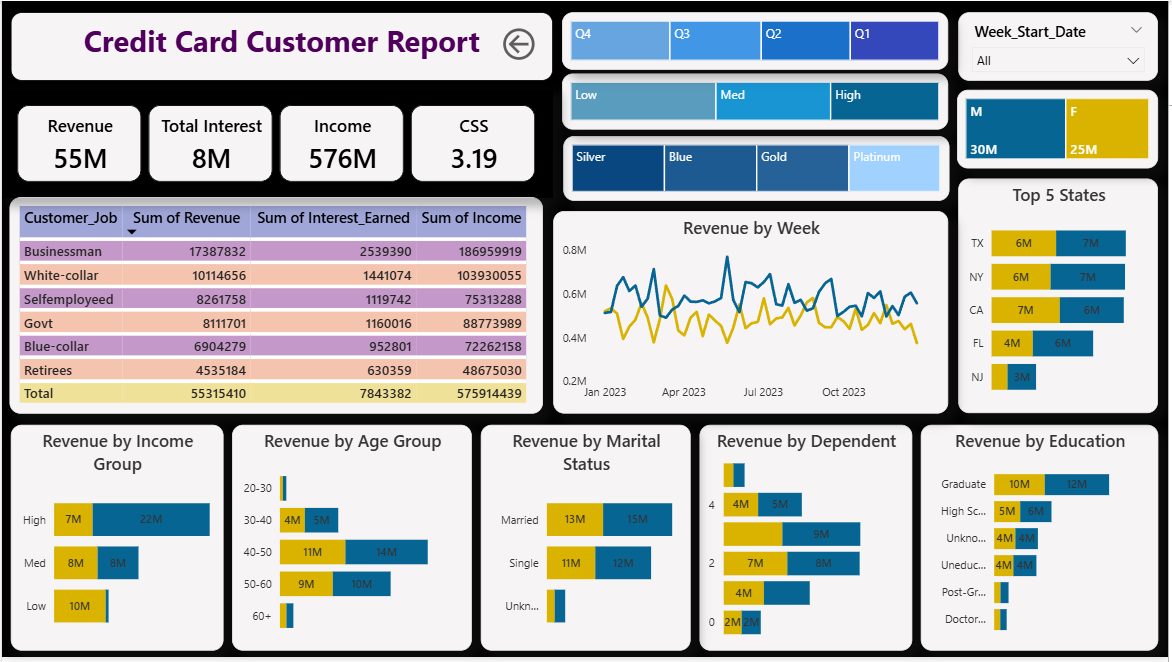

The page's visual inventory and layout, read from the dashboard file:
{"tool":"powerbi","page":{"name":"CC-Customer Reports","canvas":[1280,720],"ordinal":1},"visuals":[{"type":"textbox","box":[9.6,12.3,595.5,75.5],"z":0},{"type":"tableEx","fields":{"Values":["public cust_detail.Customer_Job","public cc_detail.Revenue","Sum(public cc_detail.Interest_Earned)","Sum(public cust_detail.Income)"]},"box":[8.2,215.4,585.9,237.4],"z":1000},{"type":"treemap","fields":{"Values":["Avg(public cc_detail.Client_Num)"],"Group":["public cc_detail.Card_Category"]},"box":[616.1,148.2,424,71.4],"z":3000},{"type":"treemap","fields":{"Values":["CountNonNull(public cc_detail.Client_Num)"],"Group":["public cust_detail.IncomeGroup"]},"box":[614.8,79.6,424,61.7],"z":4000},{"type":"slicer","fields":{"Values":["public cc_detail.Week_Start_Date"]},"box":[1049.7,12.3,219.6,75.5],"z":6000},{"type":"barChart","title":"Revenue by Income Group","fields":{"Y":["Sum(public cc_detail.Revenue)"],"Category":["public cust_detail.IncomeGroup"],"Series":["public cust_detail.Gender"]},"box":[9.6,465.2,233.3,248.4],"z":7000},{"type":"barChart","title":"Revenue by Age Group","fields":{"Y":["Sum(public cc_detail.Revenue)"],"Category":["public cust_detail.AgeGroup"],"Series":["public cust_detail.Gender"]},"box":[252.5,465.2,263.5,248.4],"z":8000},{"type":"barChart","title":"Revenue by Dependent ","fields":{"Y":["Sum(public cc_detail.Revenue)"],"Category":["public cust_detail.Dependent_Count"],"Series":["public cust_detail.Gender"]},"box":[765.7,465.2,233.3,248.4],"z":9000},{"type":"barChart","title":"Revenue by Education","fields":{"Y":["Sum(public cc_detail.Revenue)"],"Category":["public cust_detail.Education_Level"],"Series":["public cust_detail.Gender"]},"box":[1008.6,465.2,260.7,248.4],"z":10000},{"type":"barChart","title":"Top 5 States","fields":{"Y":["Sum(public cc_detail.Revenue)"],"Category":["public cust_detail.state_cd"],"Series":["public cust_detail.Gender"]},"box":[1049.7,194.9,219.6,258],"z":11000},{"type":"lineChart","title":"Revenue by Week","fields":{"Y":["Sum(public cc_detail.Revenue)"],"Series":["public cust_detail.Gender"],"Category":["public cc_detail.Week_Start_Date.Variation.Date Hierarchy.Year","public cc_detail.Week_Start_Date.Variation.Date Hierarchy.Month","public cc_detail.Week_Start_Date.Variation.Date Hierarchy.Day"]},"box":[605.1,230.5,433.6,222.3],"z":12000},{"type":"cardVisual","fields":{"Data":["Sum(public cc_detail.Revenue)","Sum(public cc_detail.Interest_Earned)","Sum(public cust_detail.Income)","Avg(public cust_detail.Cust_Satisfaction_Score)"]},"box":[0,97.4,605.1,118],"z":13000},{"type":"treemap","fields":{"Group":["public cust_detail.Gender"],"Values":["Sum(public cc_detail.Revenue)"]},"box":[1048.4,97.4,220.9,86.4],"z":13001},{"type":"barChart","title":"Revenue by Marital Status","fields":{"Y":["Sum(public cc_detail.Revenue)"],"Category":["public cust_detail.Marital_Status"],"Series":["public cust_detail.Gender"]},"box":[525.6,465.2,230.5,248.4],"z":13002},{"type":"treemap","fields":{"Group":["public cc_detail.Qtr"],"Values":["Avg(public cc_detail.Client_Num)"]},"box":[614.8,12.3,424,63.1],"z":13003},{"type":"actionButton","box":[544.8,24.7,49.4,45.3],"z":13004}]}

Visuals, with their boxes in screenshot pixels (x1, y1, x2, y2), scaled from the page's 1280x720 canvas onto the 1172x662 screenshot:
textbox: 9,11,554,81
tableEx - public cust_detail.Customer_Job x public cc_detail.Revenue: 8,198,544,416
treemap - Avg(public cc_detail.Client_Num) x public cc_detail.Card_Category: 564,136,952,202
treemap - CountNonNull(public cc_detail.Client_Num) x public cust_detail.IncomeGroup: 563,73,951,130
slicer - public cc_detail.Week_Start_Date: 961,11,1162,81
"Revenue by Income Group" barChart: 9,428,222,656
"Revenue by Age Group" barChart: 231,428,472,656
"Revenue by Dependent " barChart: 701,428,915,656
"Revenue by Education" barChart: 923,428,1162,656
"Top 5 States" barChart: 961,179,1162,416
"Revenue by Week" lineChart: 554,212,951,416
cardVisual - Sum(public cc_detail.Revenue) x Sum(public cc_detail.Interest_Earned): 0,90,554,198
treemap - public cust_detail.Gender x Sum(public cc_detail.Revenue): 960,90,1162,169
"Revenue by Marital Status" barChart: 481,428,692,656
treemap - public cc_detail.Qtr x Avg(public cc_detail.Client_Num): 563,11,951,69
actionButton: 499,23,544,64
